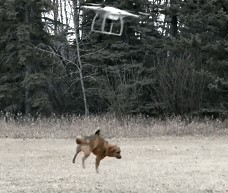dog: (72, 129, 122, 173)
